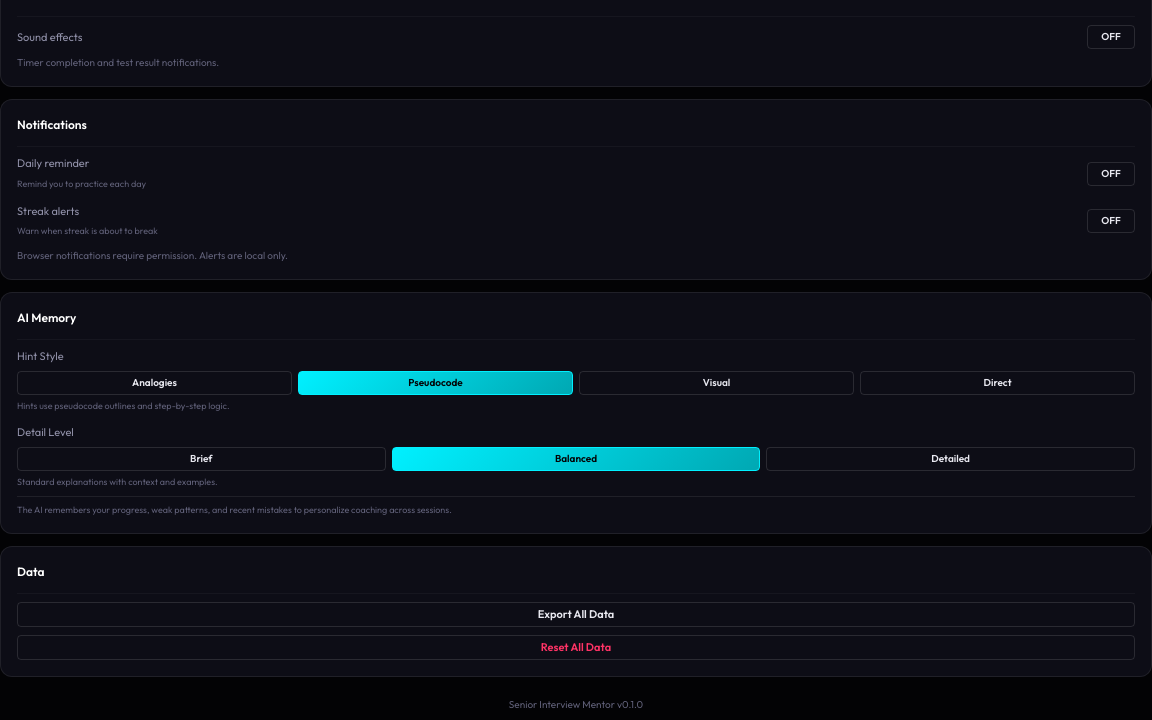
Scenario: SettingsPanel › Reset All Data modal › clicking Reset All Data opens modal
The width and height of the screenshot is (1152, 720).
(page scrolled)
Click the button "Reset All Data": click(576, 647) [17, 634, 1135, 660]
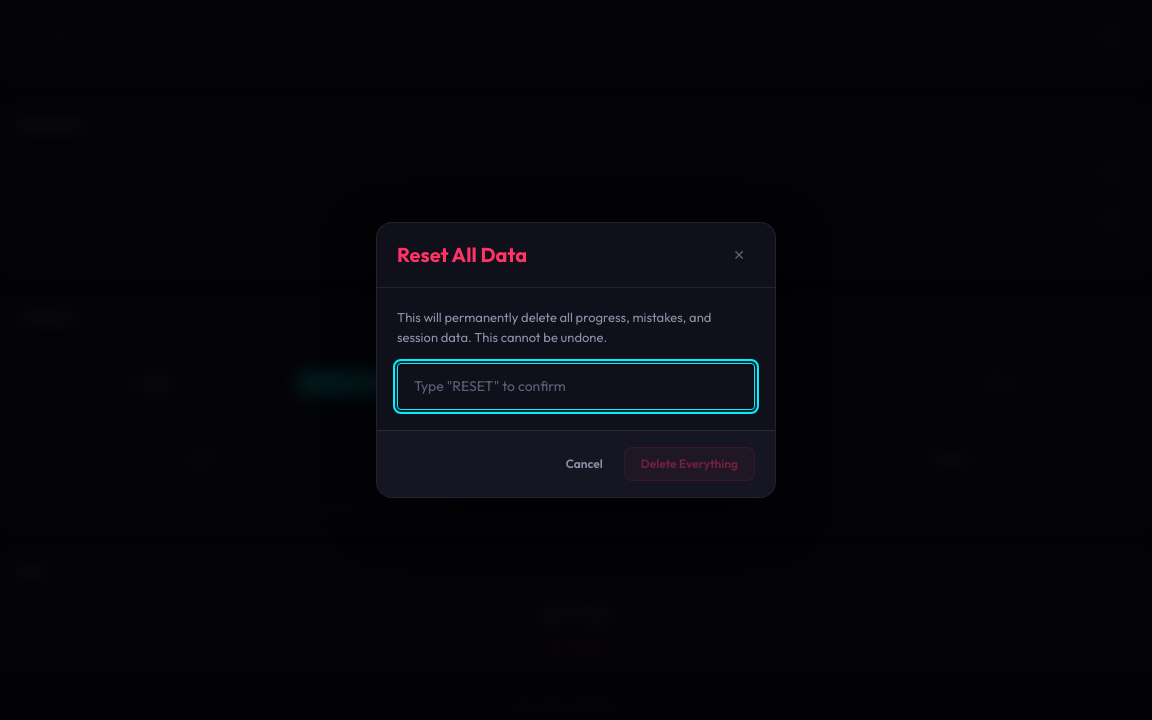
Expected: the text "This will permanently delete" is shown, [397, 309, 711, 344]
